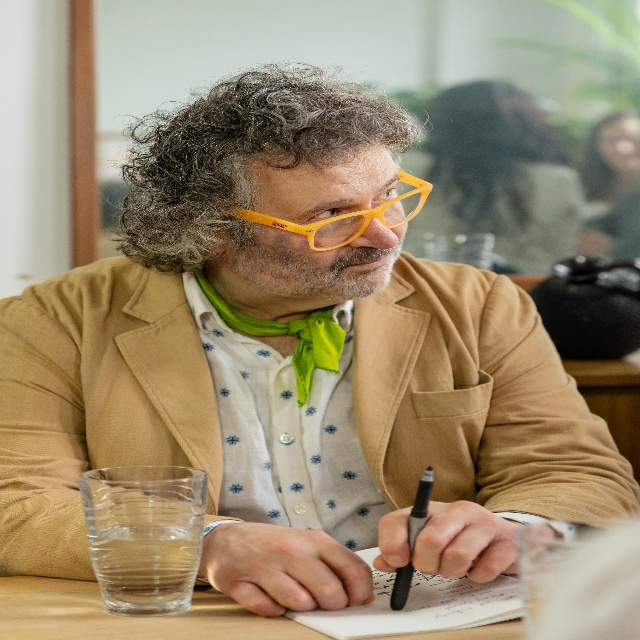Sin_guantes: (214, 515, 373, 610), (372, 497, 537, 585)
